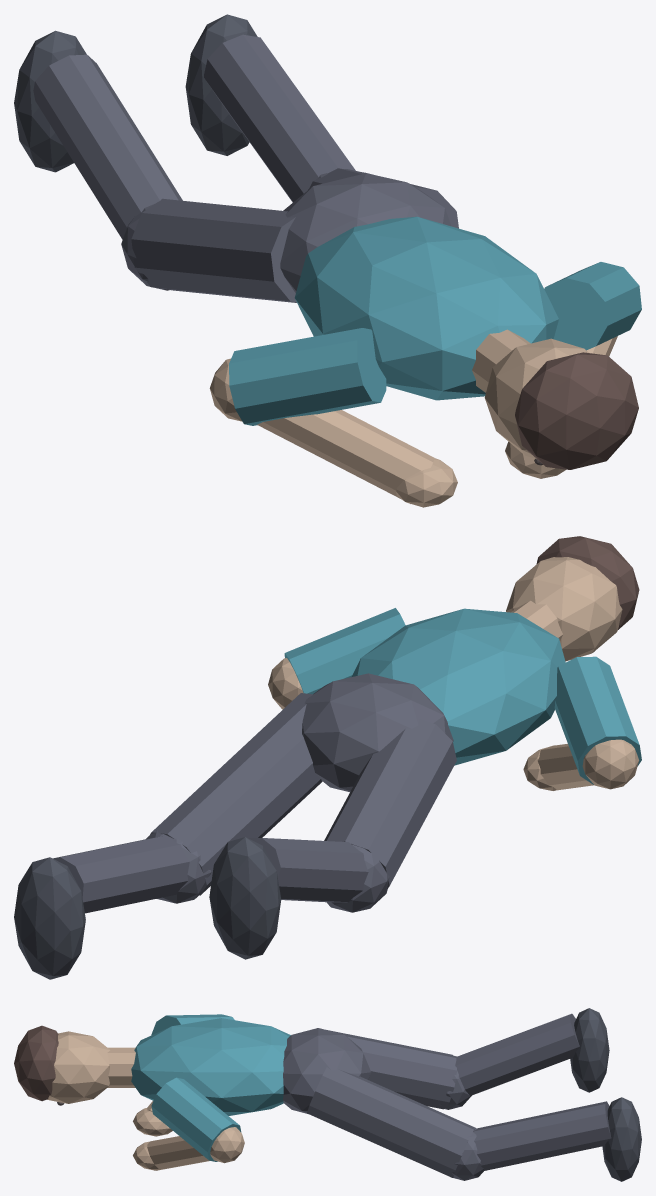
3 views of the same model, one above another, from view 1: azimuth 30°, elevation 25°; view 2: azimuth 150°, elevation 25°; view 3: azimuth 270°, elevation 25° (orthographic). The views are drawn at different scales.
Visible parts, largest first — view 1: world; view 2: world; view 3: world.
Boxes of the visible parts, <box> form: world: <box>14,14,641,507</box>; world: <box>14,536,641,979</box>; world: <box>14,1008,641,1181</box>.
Bounding box in the file's own units: 0.93 × 0.44 × 2.01.
